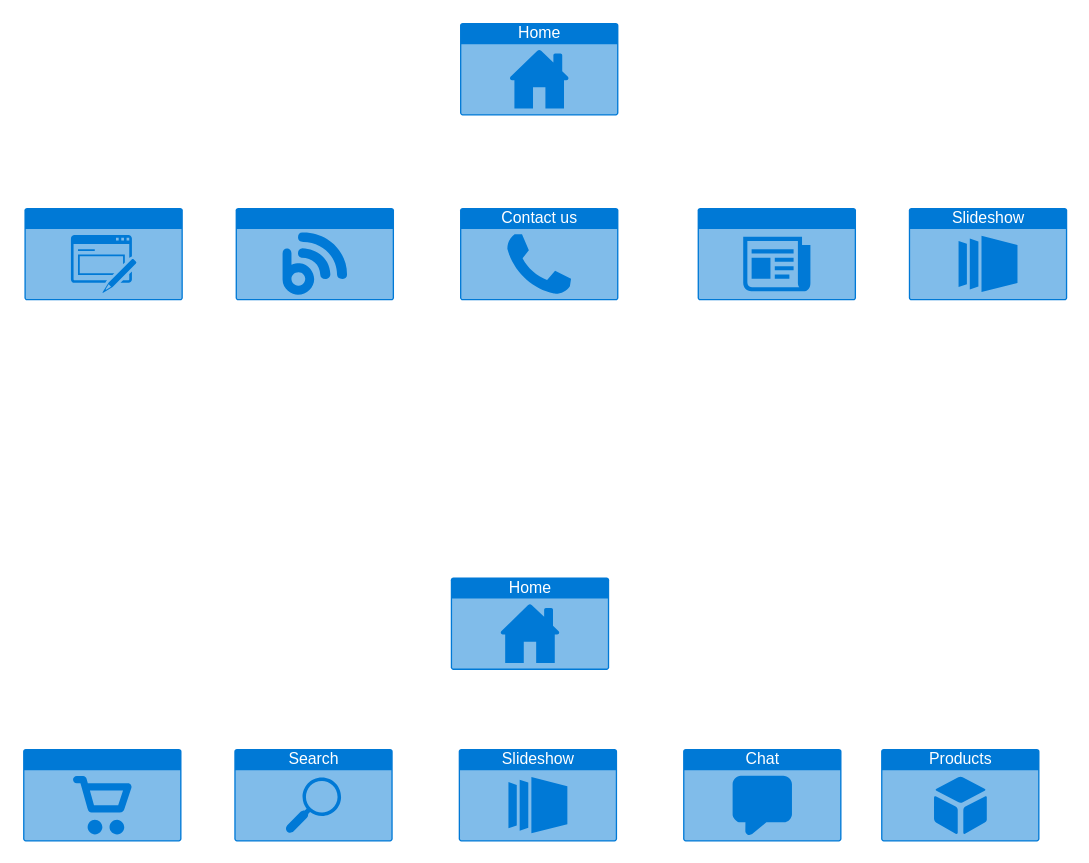
Some shapes in this 1089 by 863 pixel diagram are drawn without their labels. Here are the shapes that lost their labels. From the top down, the centre of each, then its label:
At pixel 103 253: "Form".
At pixel 314 253: "Blog".
At pixel 776 253: "News".
At pixel 101 794: "Shopping".
